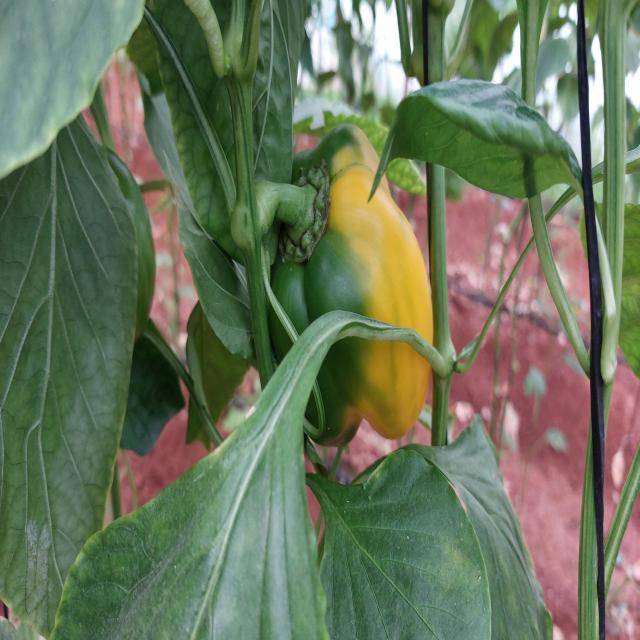Yellow-Ready-to-Harvest: (328, 127, 432, 444)
